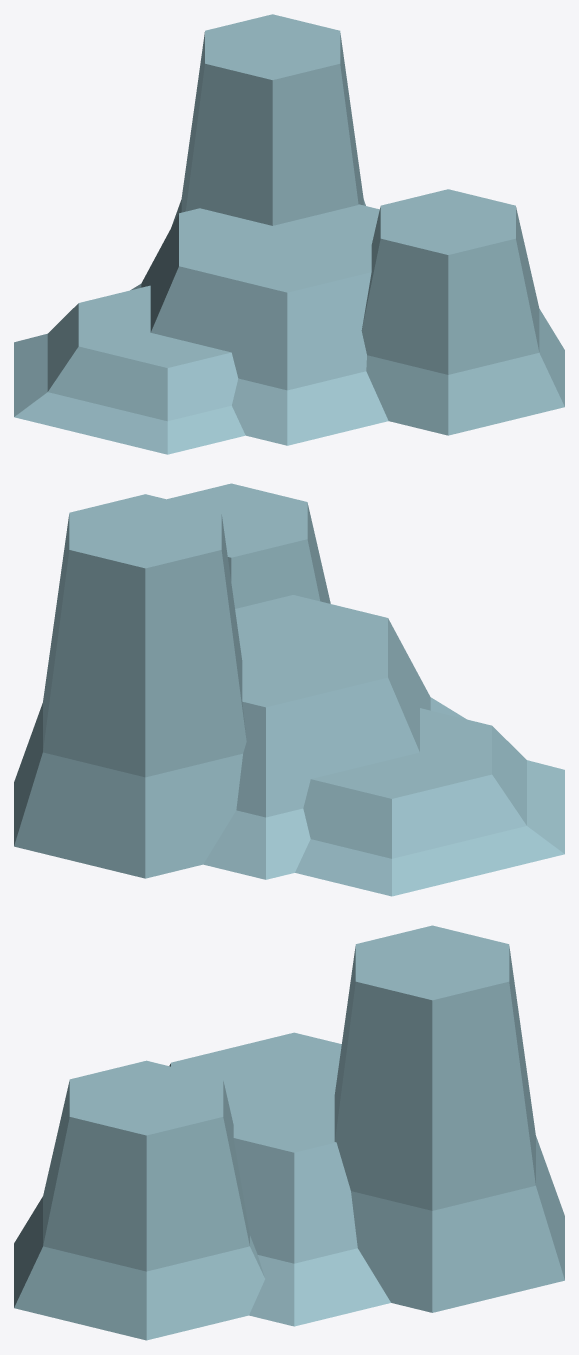
The model's file is rocks.fbx.
3 renders of one model, top to bottom at view 1: azimuth 30°, elevation 25°; view 2: azimuth 150°, elevation 25°; view 3: azimuth 270°, elevation 25°, orthographic. The views are drawn at different scales.
Parts seen in each view (by area): view 1: rocks; view 2: rocks; view 3: rocks.
Boxes of the visible parts, x1,y1,x2,y2 form: rocks: (14, 14, 564, 454); rocks: (14, 483, 564, 896); rocks: (14, 925, 564, 1340).
Size of the model in its own units: 9.34 by 4.66 by 8.15.
